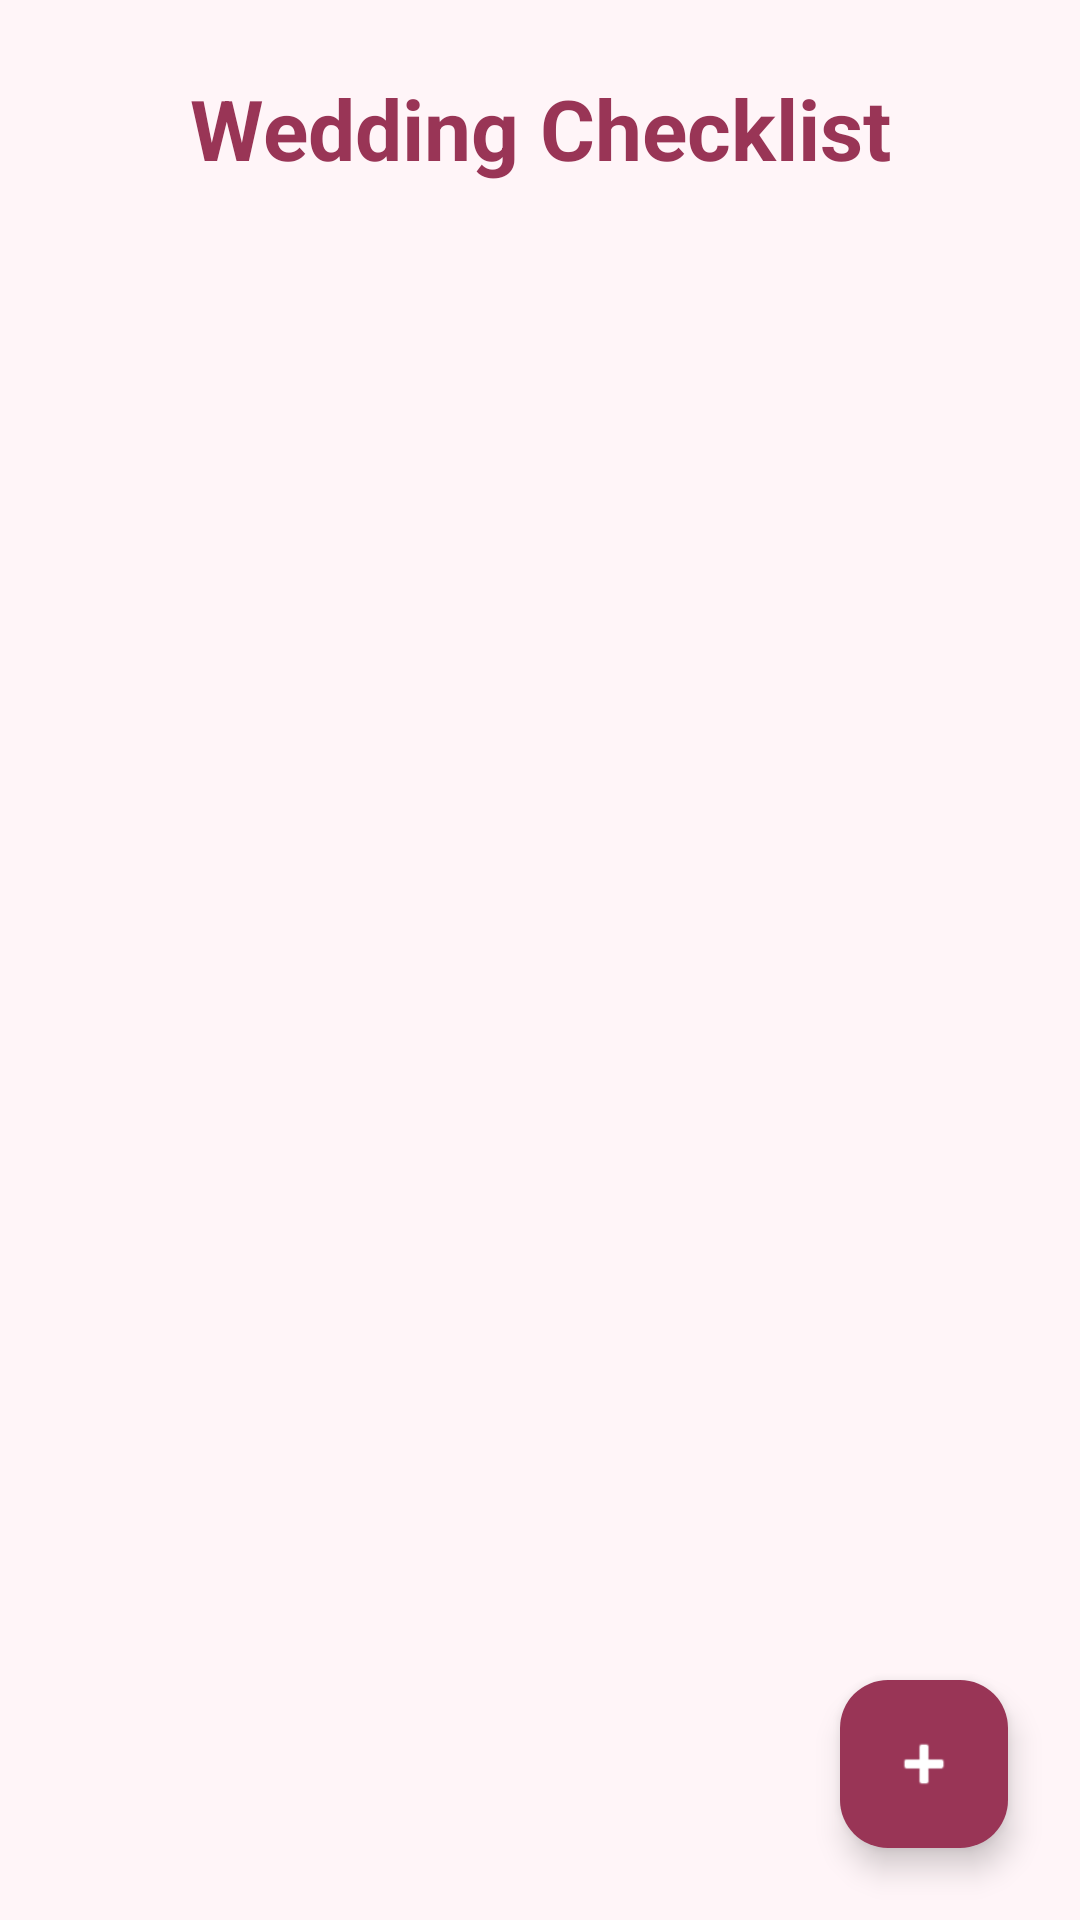

Icon bounding boxes for this 1080px×1920px phone screenshot, format [x1, y1, x2, y2]:
add: [840, 1680, 1008, 1848]
